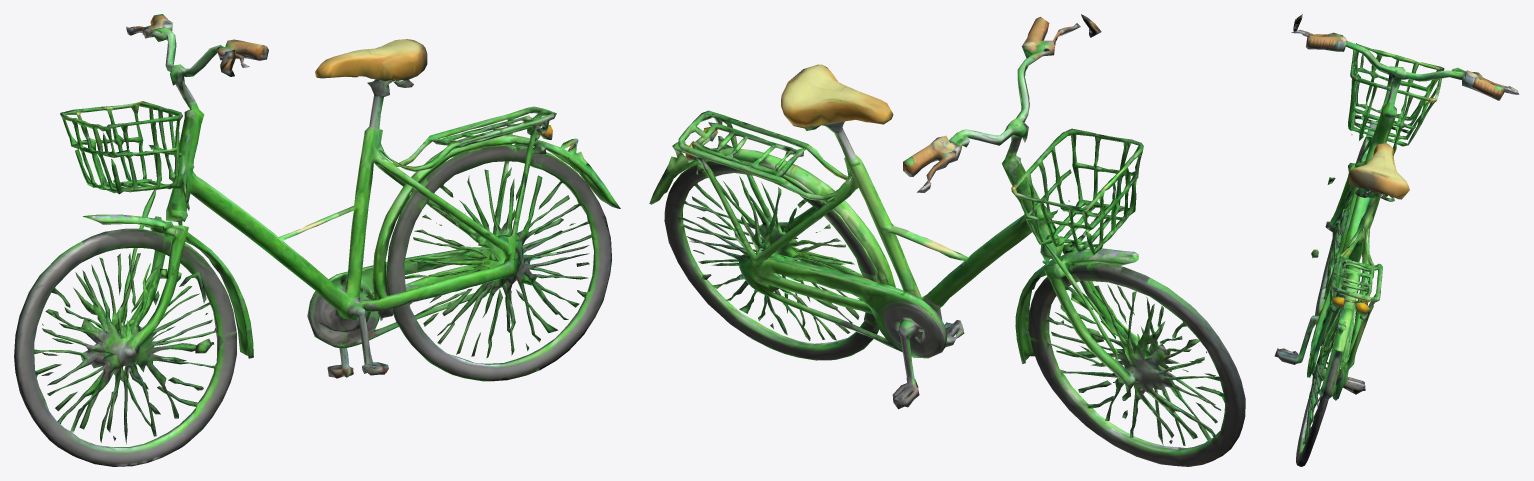
The model's file is Bicycle.glb.
3 renders of one model, left to right at view 1: azimuth 30°, elevation 25°; view 2: azimuth 150°, elevation 25°; view 3: azimuth 270°, elevation 25°, orthographic. The views are drawn at different scales.
Parts seen in each view (by area): view 1: Bicycle; view 2: Bicycle; view 3: Bicycle.
Boxes of the visible parts, bbox=[...] form: Bicycle: bbox=[14, 14, 620, 466]; Bicycle: bbox=[649, 14, 1245, 466]; Bicycle: bbox=[1274, 14, 1519, 466].
Size of the model in its own units: 2.73 by 1.78 by 1.19.
Materials: 1 (1 with a texture image).
